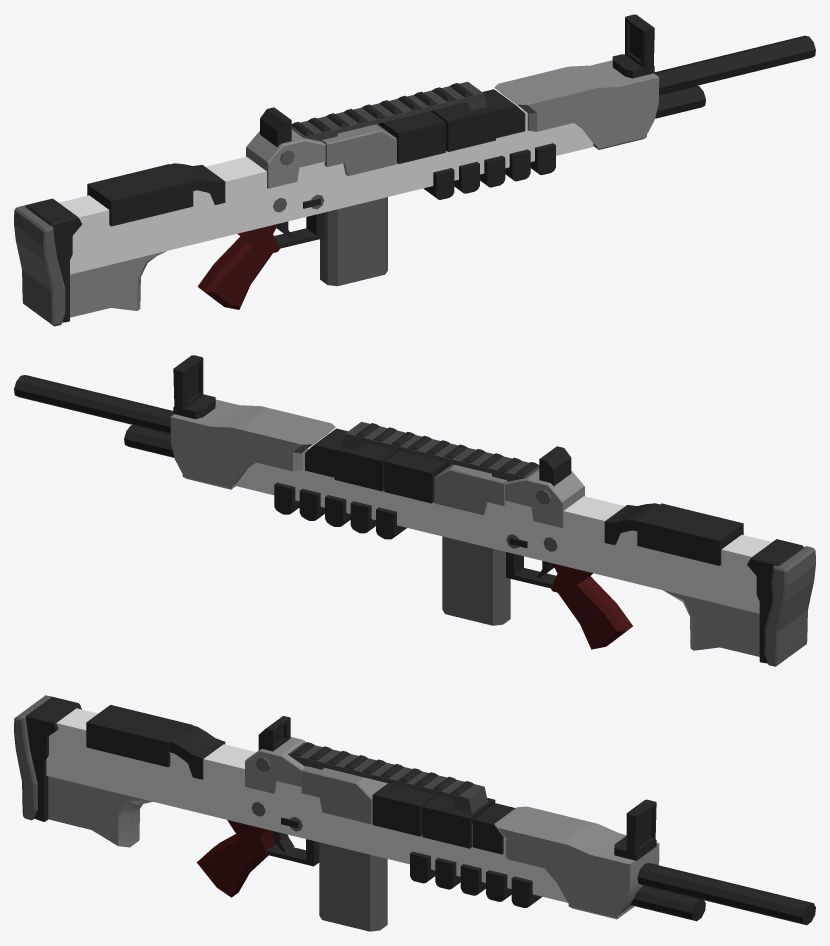
The model's file is Gun.fbx.
The picture shows the model from 3 angles, top to bottom: view 1: azimuth 30°, elevation 25°; view 2: azimuth 150°, elevation 25°; view 3: azimuth 330°, elevation 25°; orthographic projection.
Visible parts, largest first — view 1: pCube2, pPlane18, pCube6, pCube4, pCube1, pCylinder4, pCube5, pCube3, pPlane7, pPlane4, pPlane6, pCube13 (+13 smaller); view 2: pCube2, pPlane18, pCube6, pCube4, pCube1, pCylinder4, pCube5, pCube3, pPlane4, pPlane7, pPlane6, pCube13 (+13 smaller); view 3: pCube2, pPlane18, pCube6, pCube3, pCylinder4, pCube4, pCube5, pPlane7, pPlane4, pPlane1, pCube13, pCube14 (+13 smaller).
Part boxes in pixels (<box>): pCube2: <box>59,94,593,274</box>; pPlane18: <box>494,60,659,149</box>; pCube6: <box>320,197,387,286</box>; pCube4: <box>87,164,193,226</box>; pCube1: <box>14,205,65,326</box>; pCylinder4: <box>654,35,815,94</box>; pCube5: <box>197,224,279,309</box>; pCube3: <box>70,251,166,317</box>; pPlane7: <box>322,124,396,175</box>; pPlane4: <box>291,81,487,141</box>; pPlane6: <box>246,129,325,188</box>; pCube13: <box>377,111,445,163</box>; pCube2: <box>236,433,771,613</box>; pPlane18: <box>170,399,335,489</box>; pCube6: <box>442,536,510,625</box>; pCube4: <box>637,503,743,565</box>; pCube1: <box>764,546,815,666</box>; pCylinder4: <box>14,375,173,433</box>; pCube5: <box>550,563,632,649</box>; pCube3: <box>663,590,759,656</box>; pPlane4: <box>342,422,539,481</box>; pPlane7: <box>434,464,507,514</box>; pPlane6: <box>505,468,584,527</box>; pCube13: <box>384,451,451,503</box>; pCube2: <box>46,708,567,902</box>; pPlane18: <box>494,806,659,919</box>; pCube6: <box>319,842,387,931</box>; pCube3: <box>48,776,152,847</box>; pCylinder4: <box>637,863,815,925</box>; pCube4: <box>86,705,192,767</box>; pCube5: <box>197,820,275,897</box>; pPlane7: <box>301,766,387,824</box>; pPlane4: <box>288,742,487,813</box>; pPlane1: <box>26,697,81,821</box>; pCube13: <box>372,783,437,836</box>; pCube14: <box>422,795,495,848</box>.
Size of the model in its own units: 8.01 by 1.81 by 0.5433.
